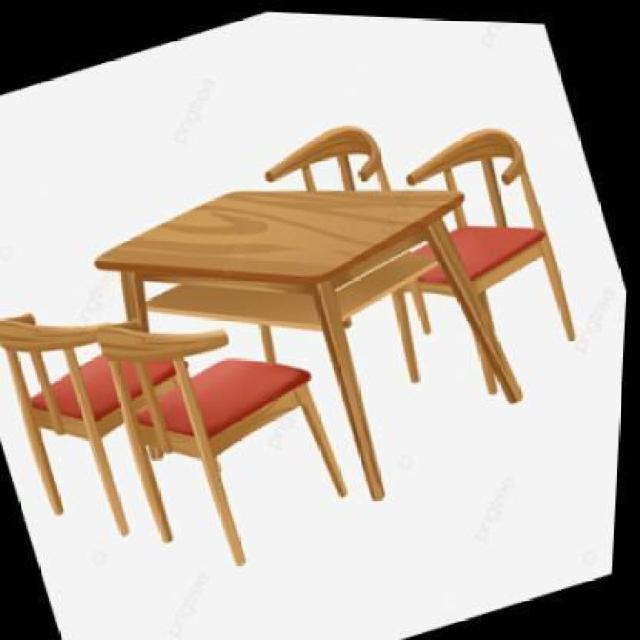tables: (92, 188, 466, 500)
